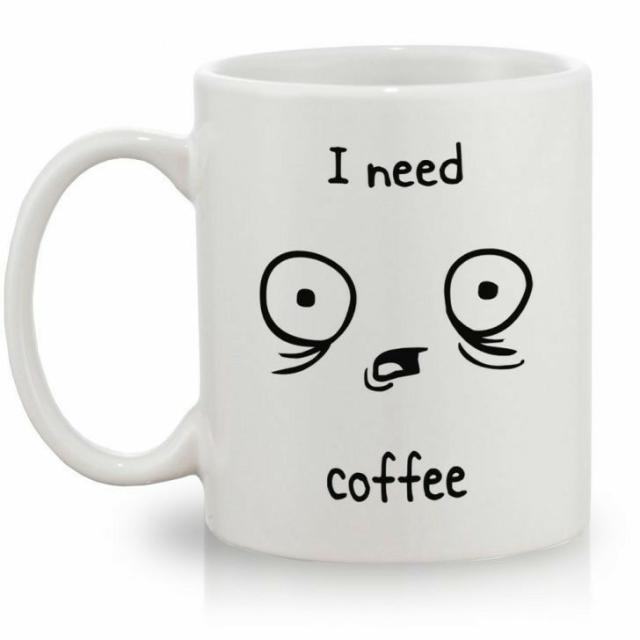glass cup: (4, 45, 594, 565)
